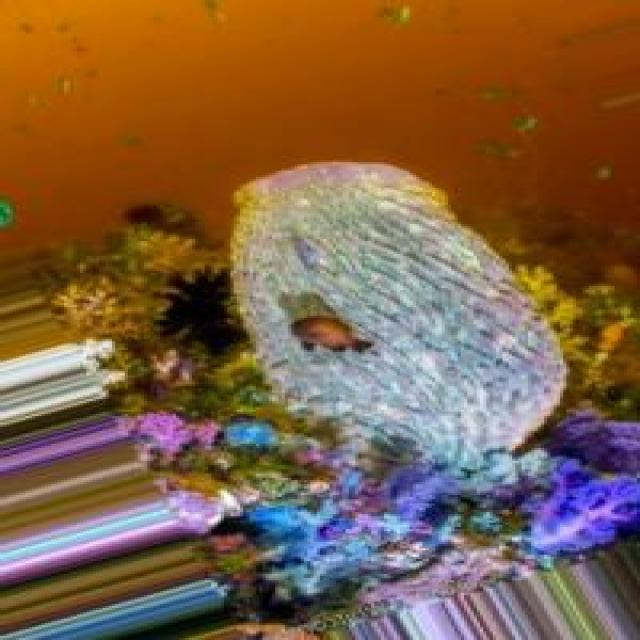Healthy: (231, 163, 571, 479), (219, 475, 449, 639), (455, 421, 640, 564)
